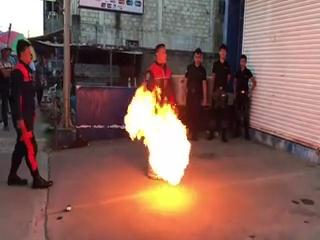Fire: (124, 84, 195, 189)
